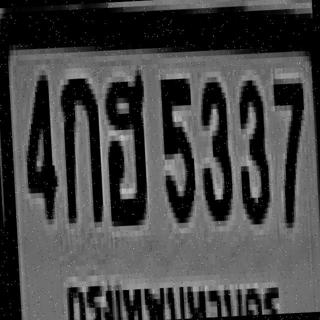A01: (58, 70, 102, 216)
A44: (102, 68, 148, 218)
N03: (234, 75, 269, 220), (196, 76, 232, 216)
N04: (20, 70, 57, 215)
N05: (158, 73, 195, 218)
N07: (271, 73, 308, 223)
